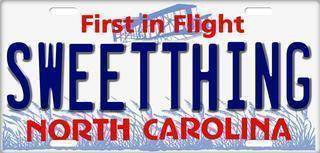placa de veiculo: (3, 1, 315, 145)
